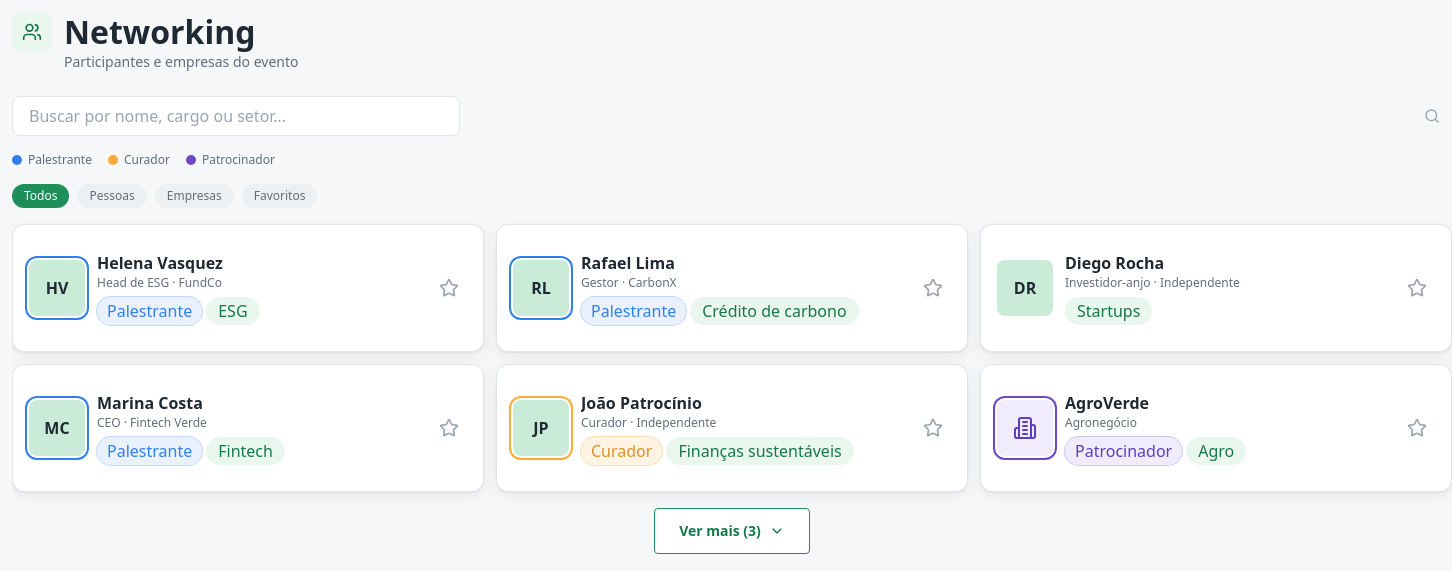
it: Networking › o filtro de empresas deixa só empresas
Click the button "Empresas". click: (194, 196)
box: [155,184,234,208]
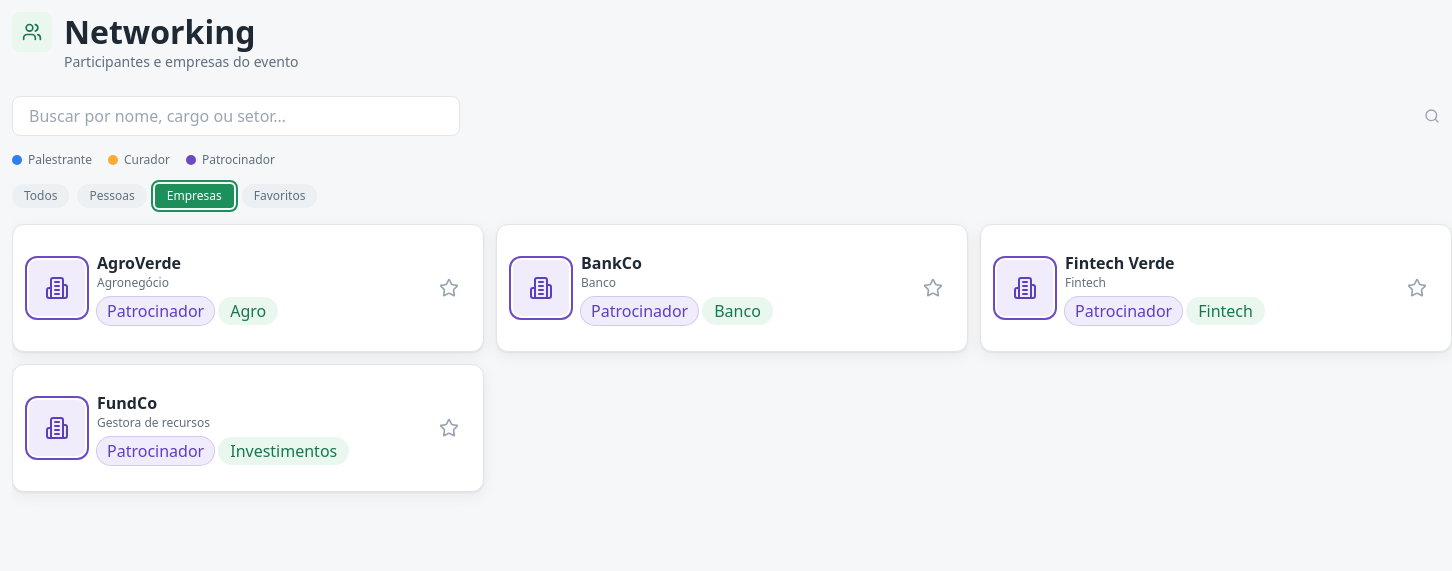
Check: the number of list items is 4, box [12,224,484,352]; [496,224,968,352]; [980,224,1451,352]; [12,364,484,492]
